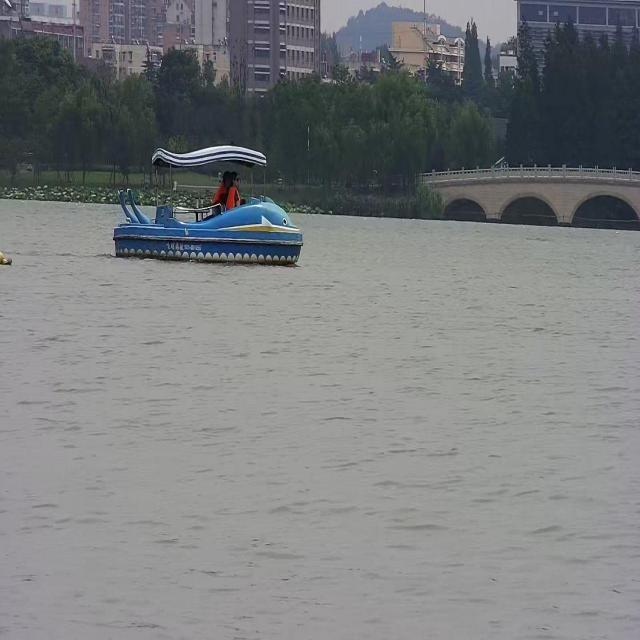CIV_Ship: (114, 137, 306, 272)
